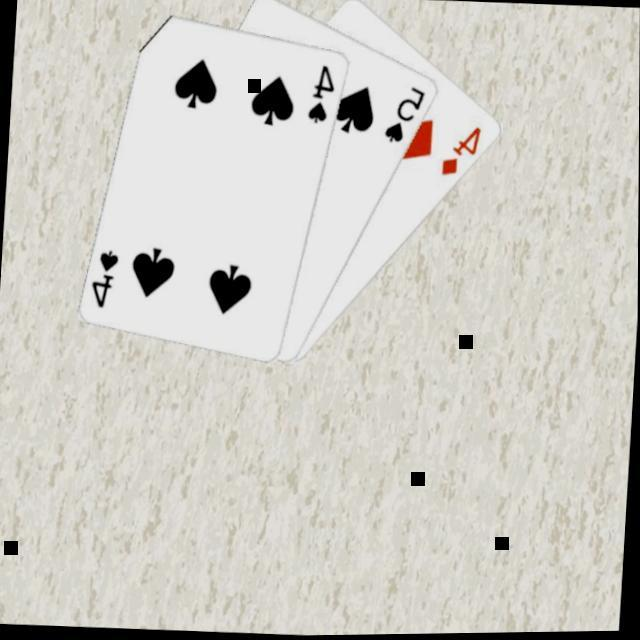4D: (436, 124, 484, 182)
4S: (303, 62, 337, 128), (86, 247, 120, 313)
5S: (380, 84, 428, 149)
